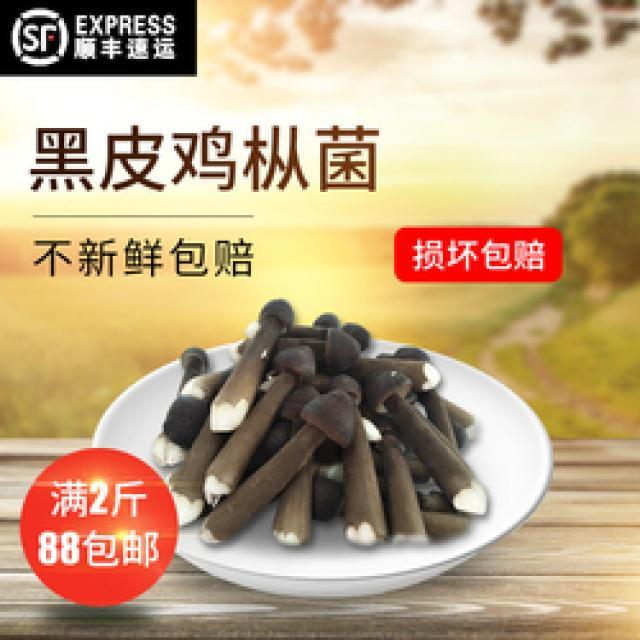Collybia albuminosa: (160, 302, 490, 546)
